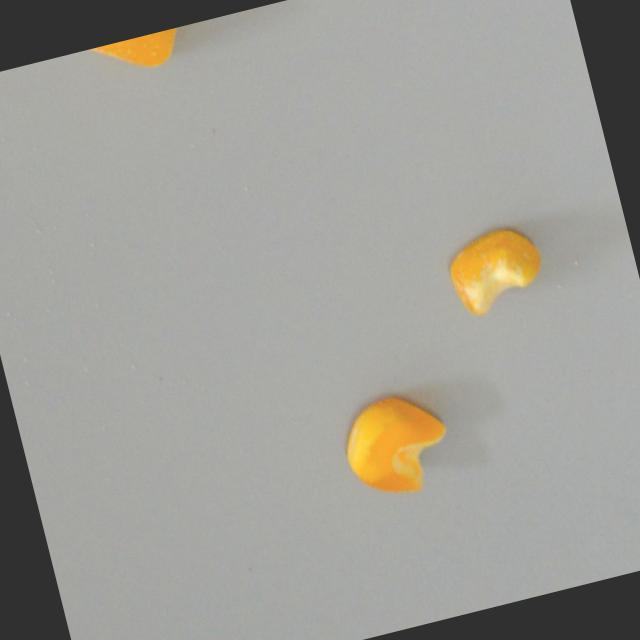no_canjicado: (333, 384, 458, 506)
pelicula: (441, 219, 550, 319), (76, 25, 190, 84)
